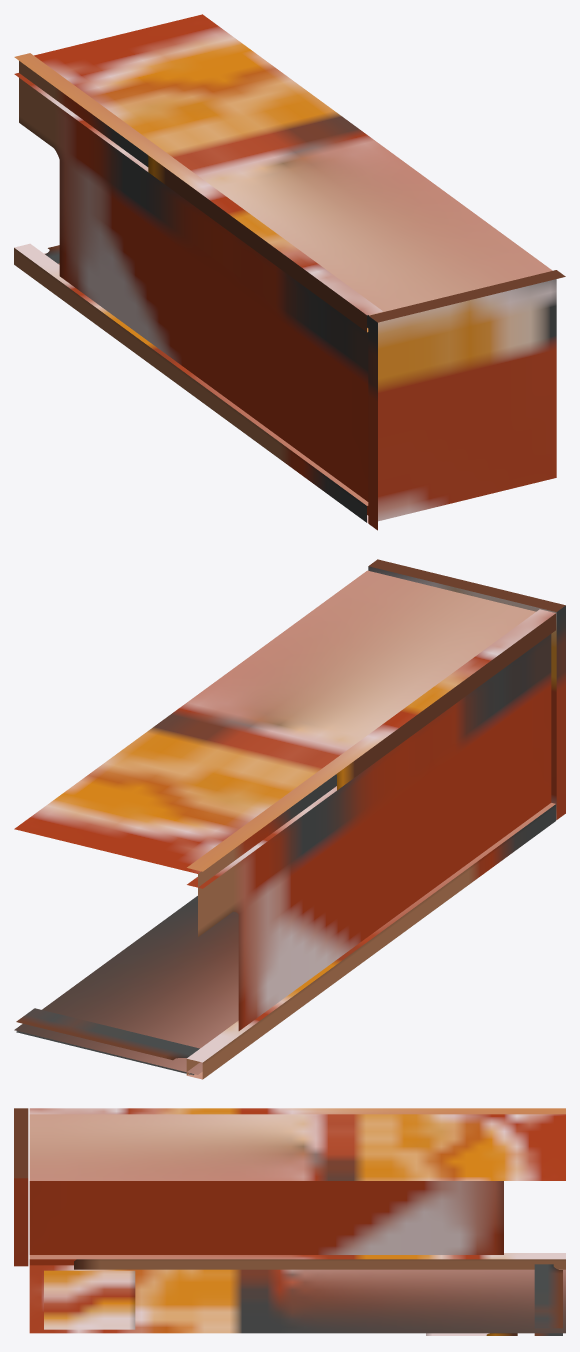
Rendered from section-4.obj.
3 views of the same model, one above another, from view 1: azimuth 30°, elevation 25°; view 2: azimuth 150°, elevation 25°; view 3: azimuth 270°, elevation 25° (orthographic). The views are drawn at different scales.
Size of the model in its own units: 0.58 by 0.641 by 1.93.
